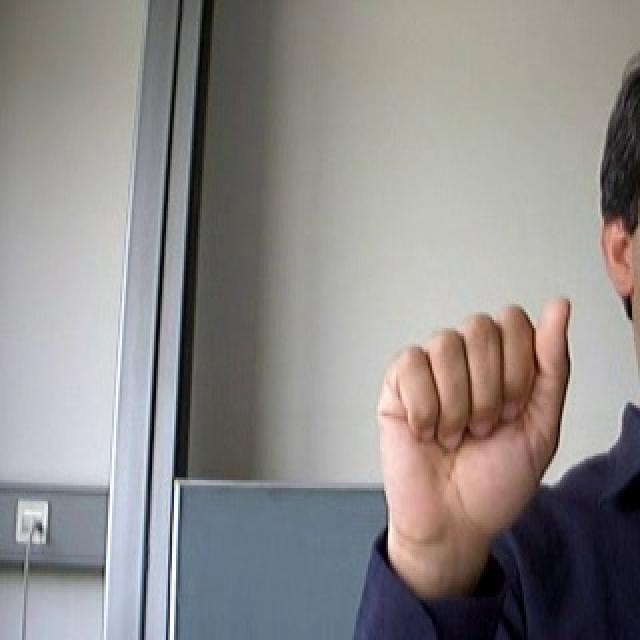A: (362, 277, 595, 565)
